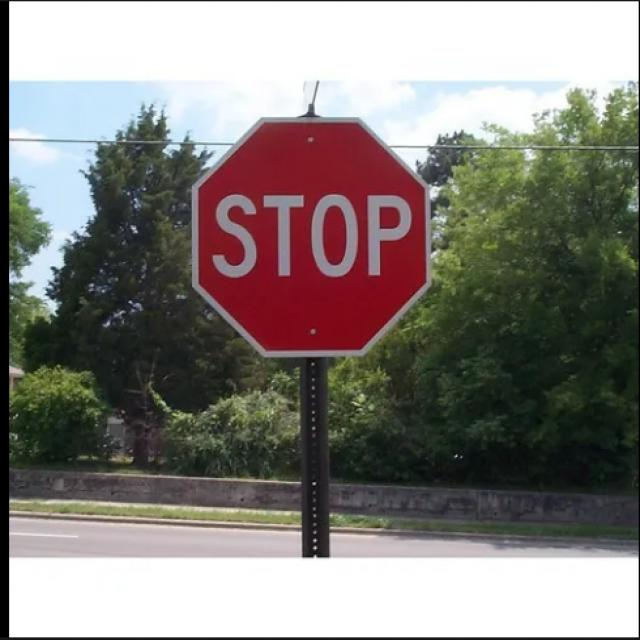stop-sign: (170, 112, 458, 373)
